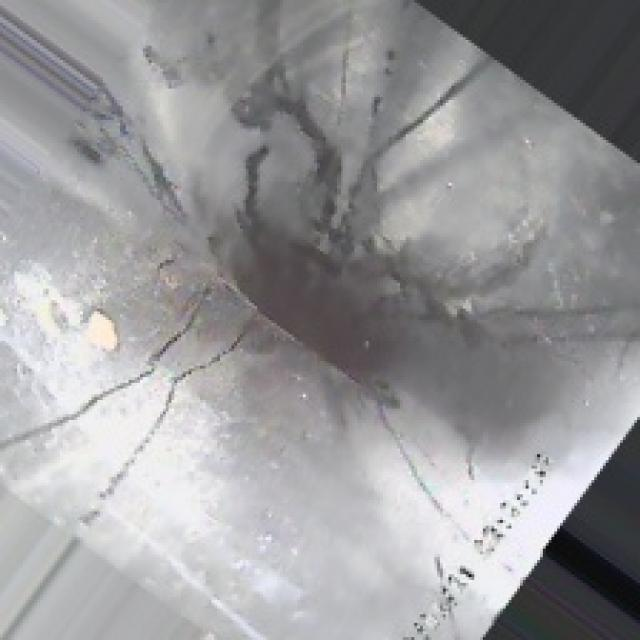shape_deformation: (120, 63, 551, 494)
